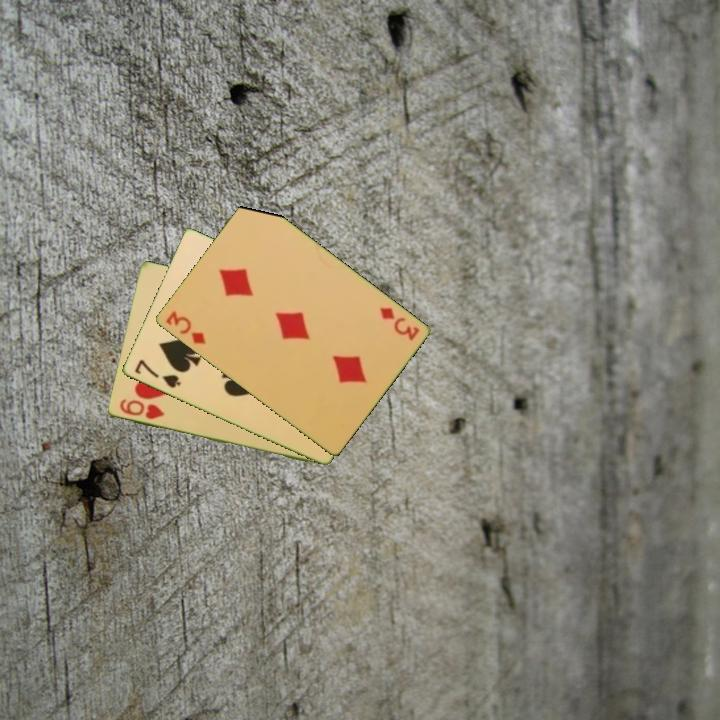3d: (162, 307, 209, 347), (376, 303, 422, 343)
6h: (116, 395, 167, 423)
7s: (130, 356, 183, 391)
